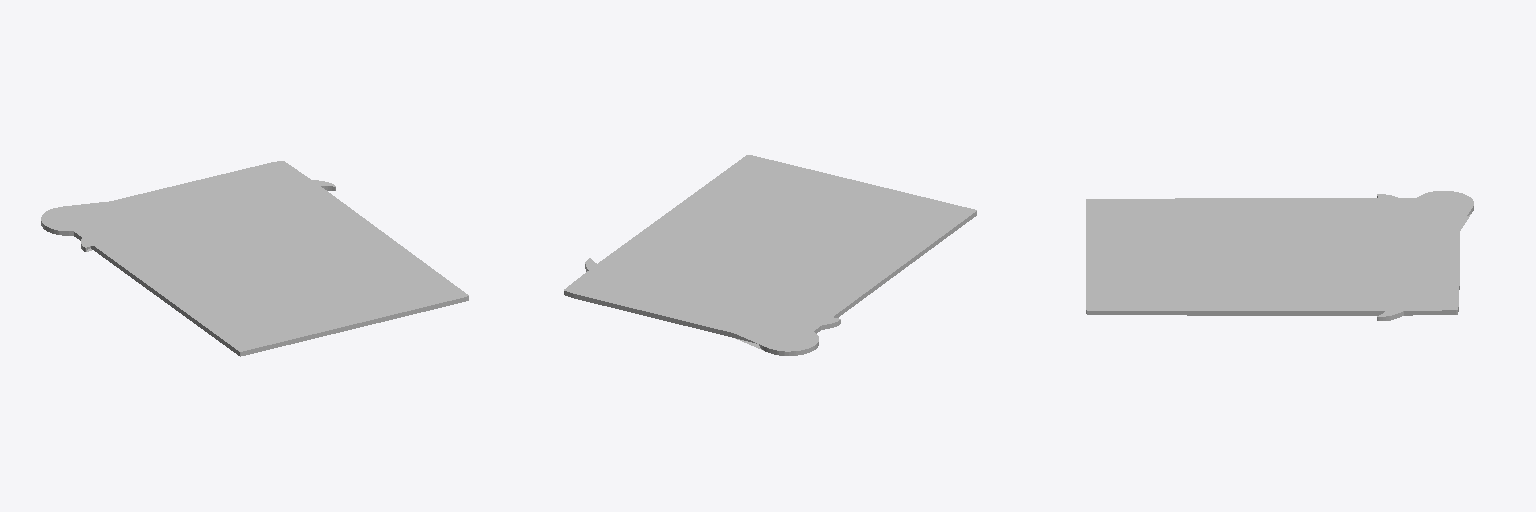
File: strike.obj
3 renders of one model, left to right at view 1: azimuth 30°, elevation 25°; view 2: azimuth 150°, elevation 25°; view 3: azimuth 270°, elevation 25°, orthographic.
Parts seen in each view (by area): view 1: Curve; view 2: Curve; view 3: Curve.
Boxes of the visible parts, <box> form: Curve: <box>41,161,468,356</box>; Curve: <box>564,155,976,355</box>; Curve: <box>1086,191,1473,320</box>.
Bounding box in the file's own units: 0.0827 × 0.0014 × 0.1073.